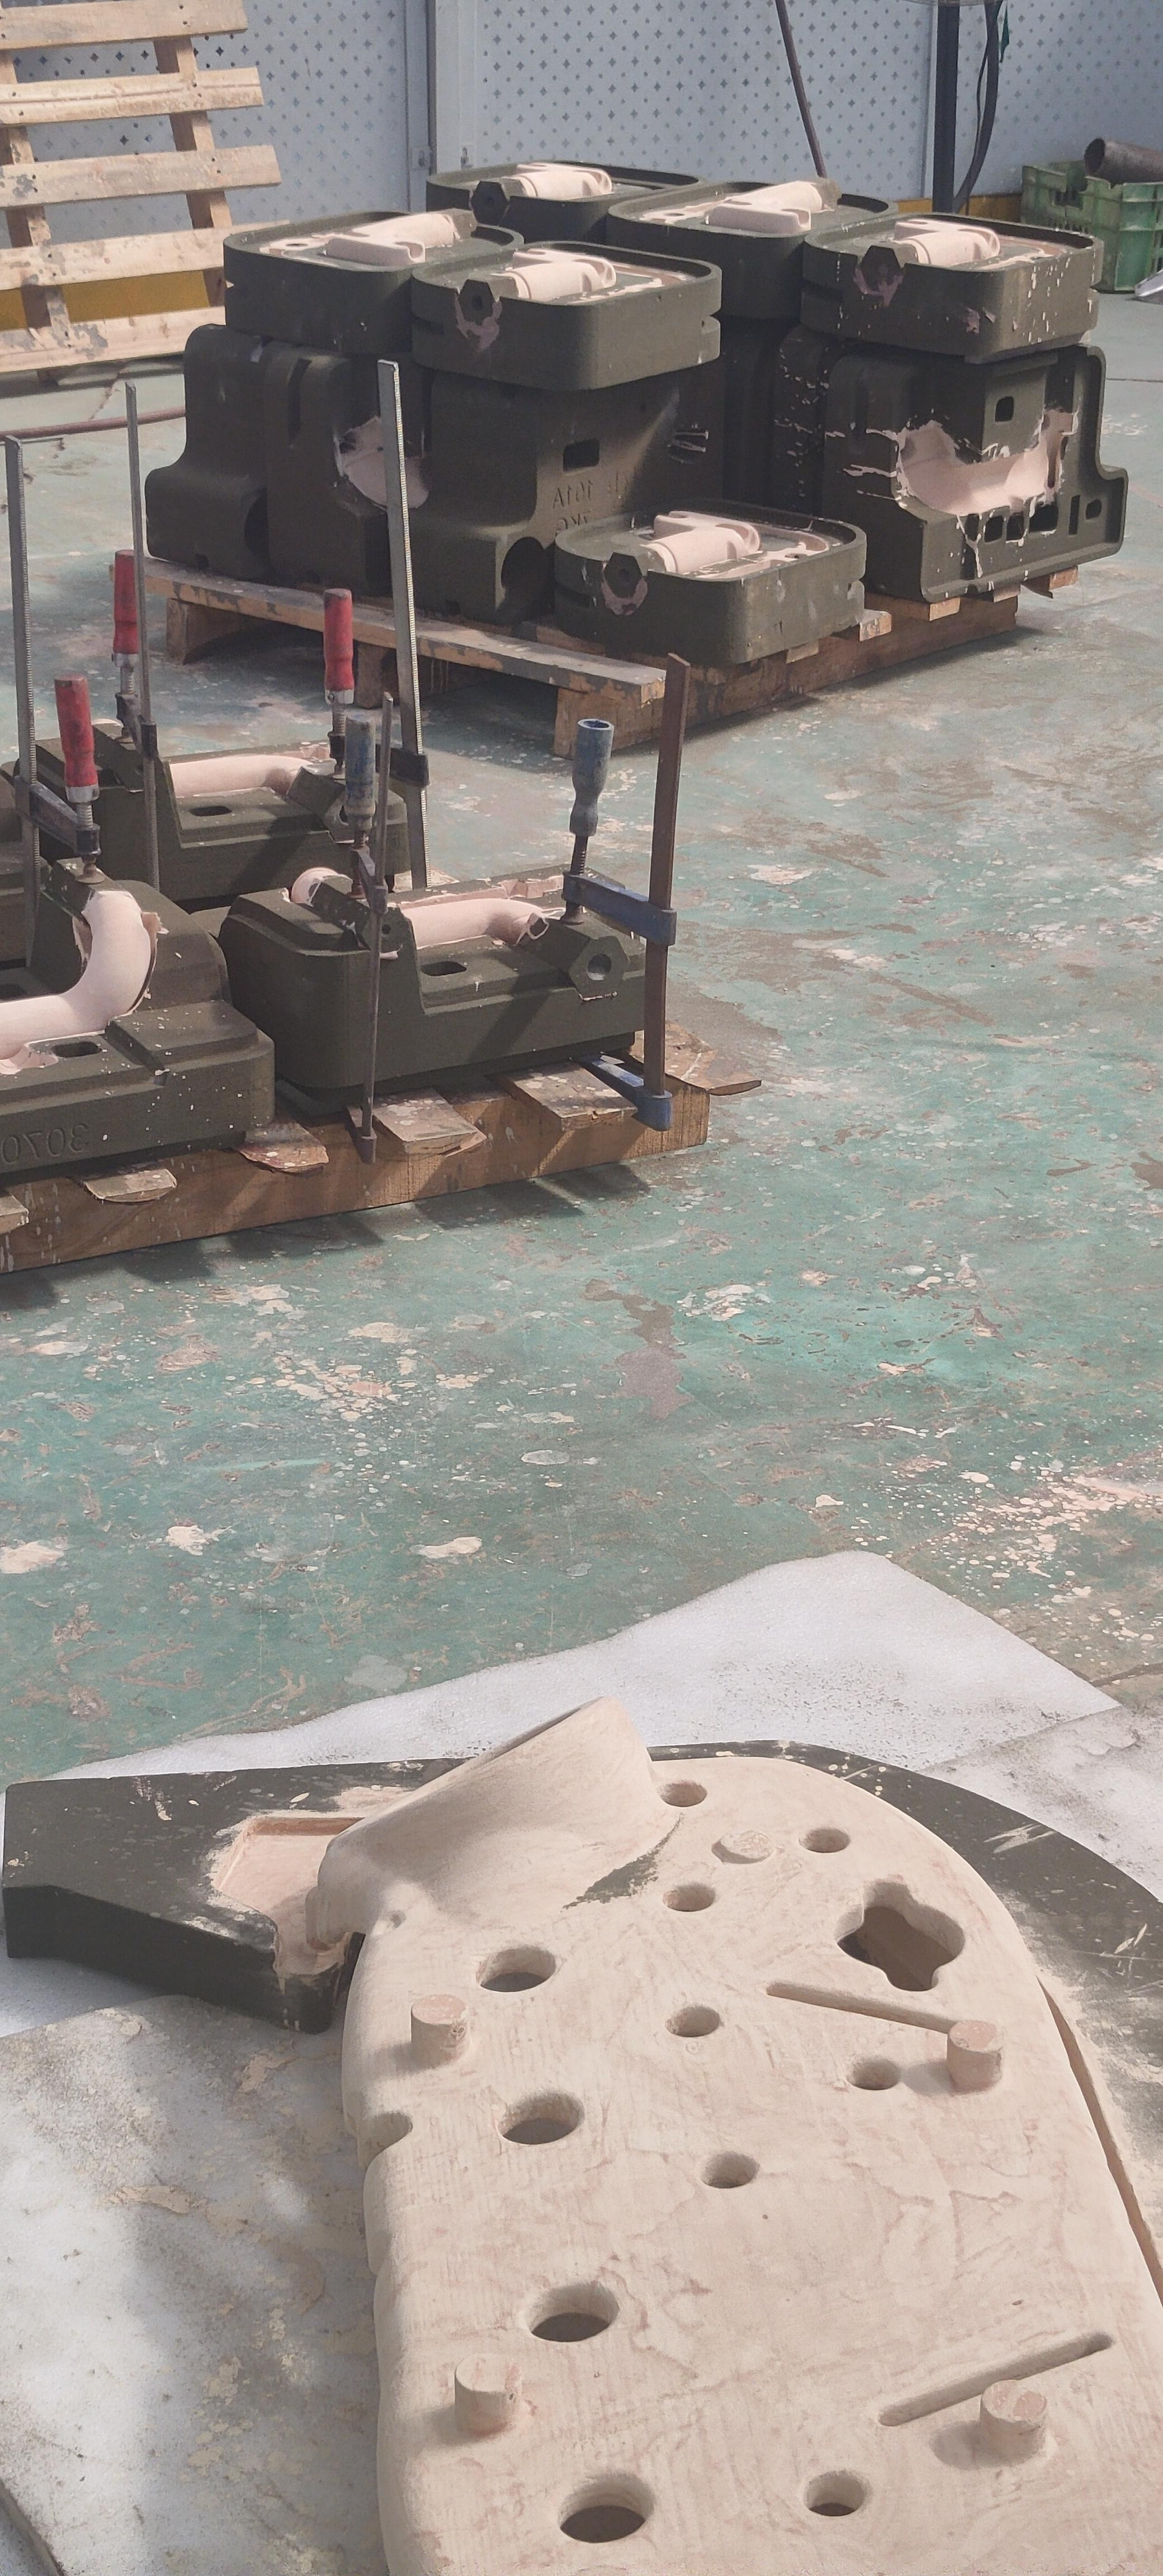pouring hole: (243, 491, 302, 567), (499, 537, 550, 605)
